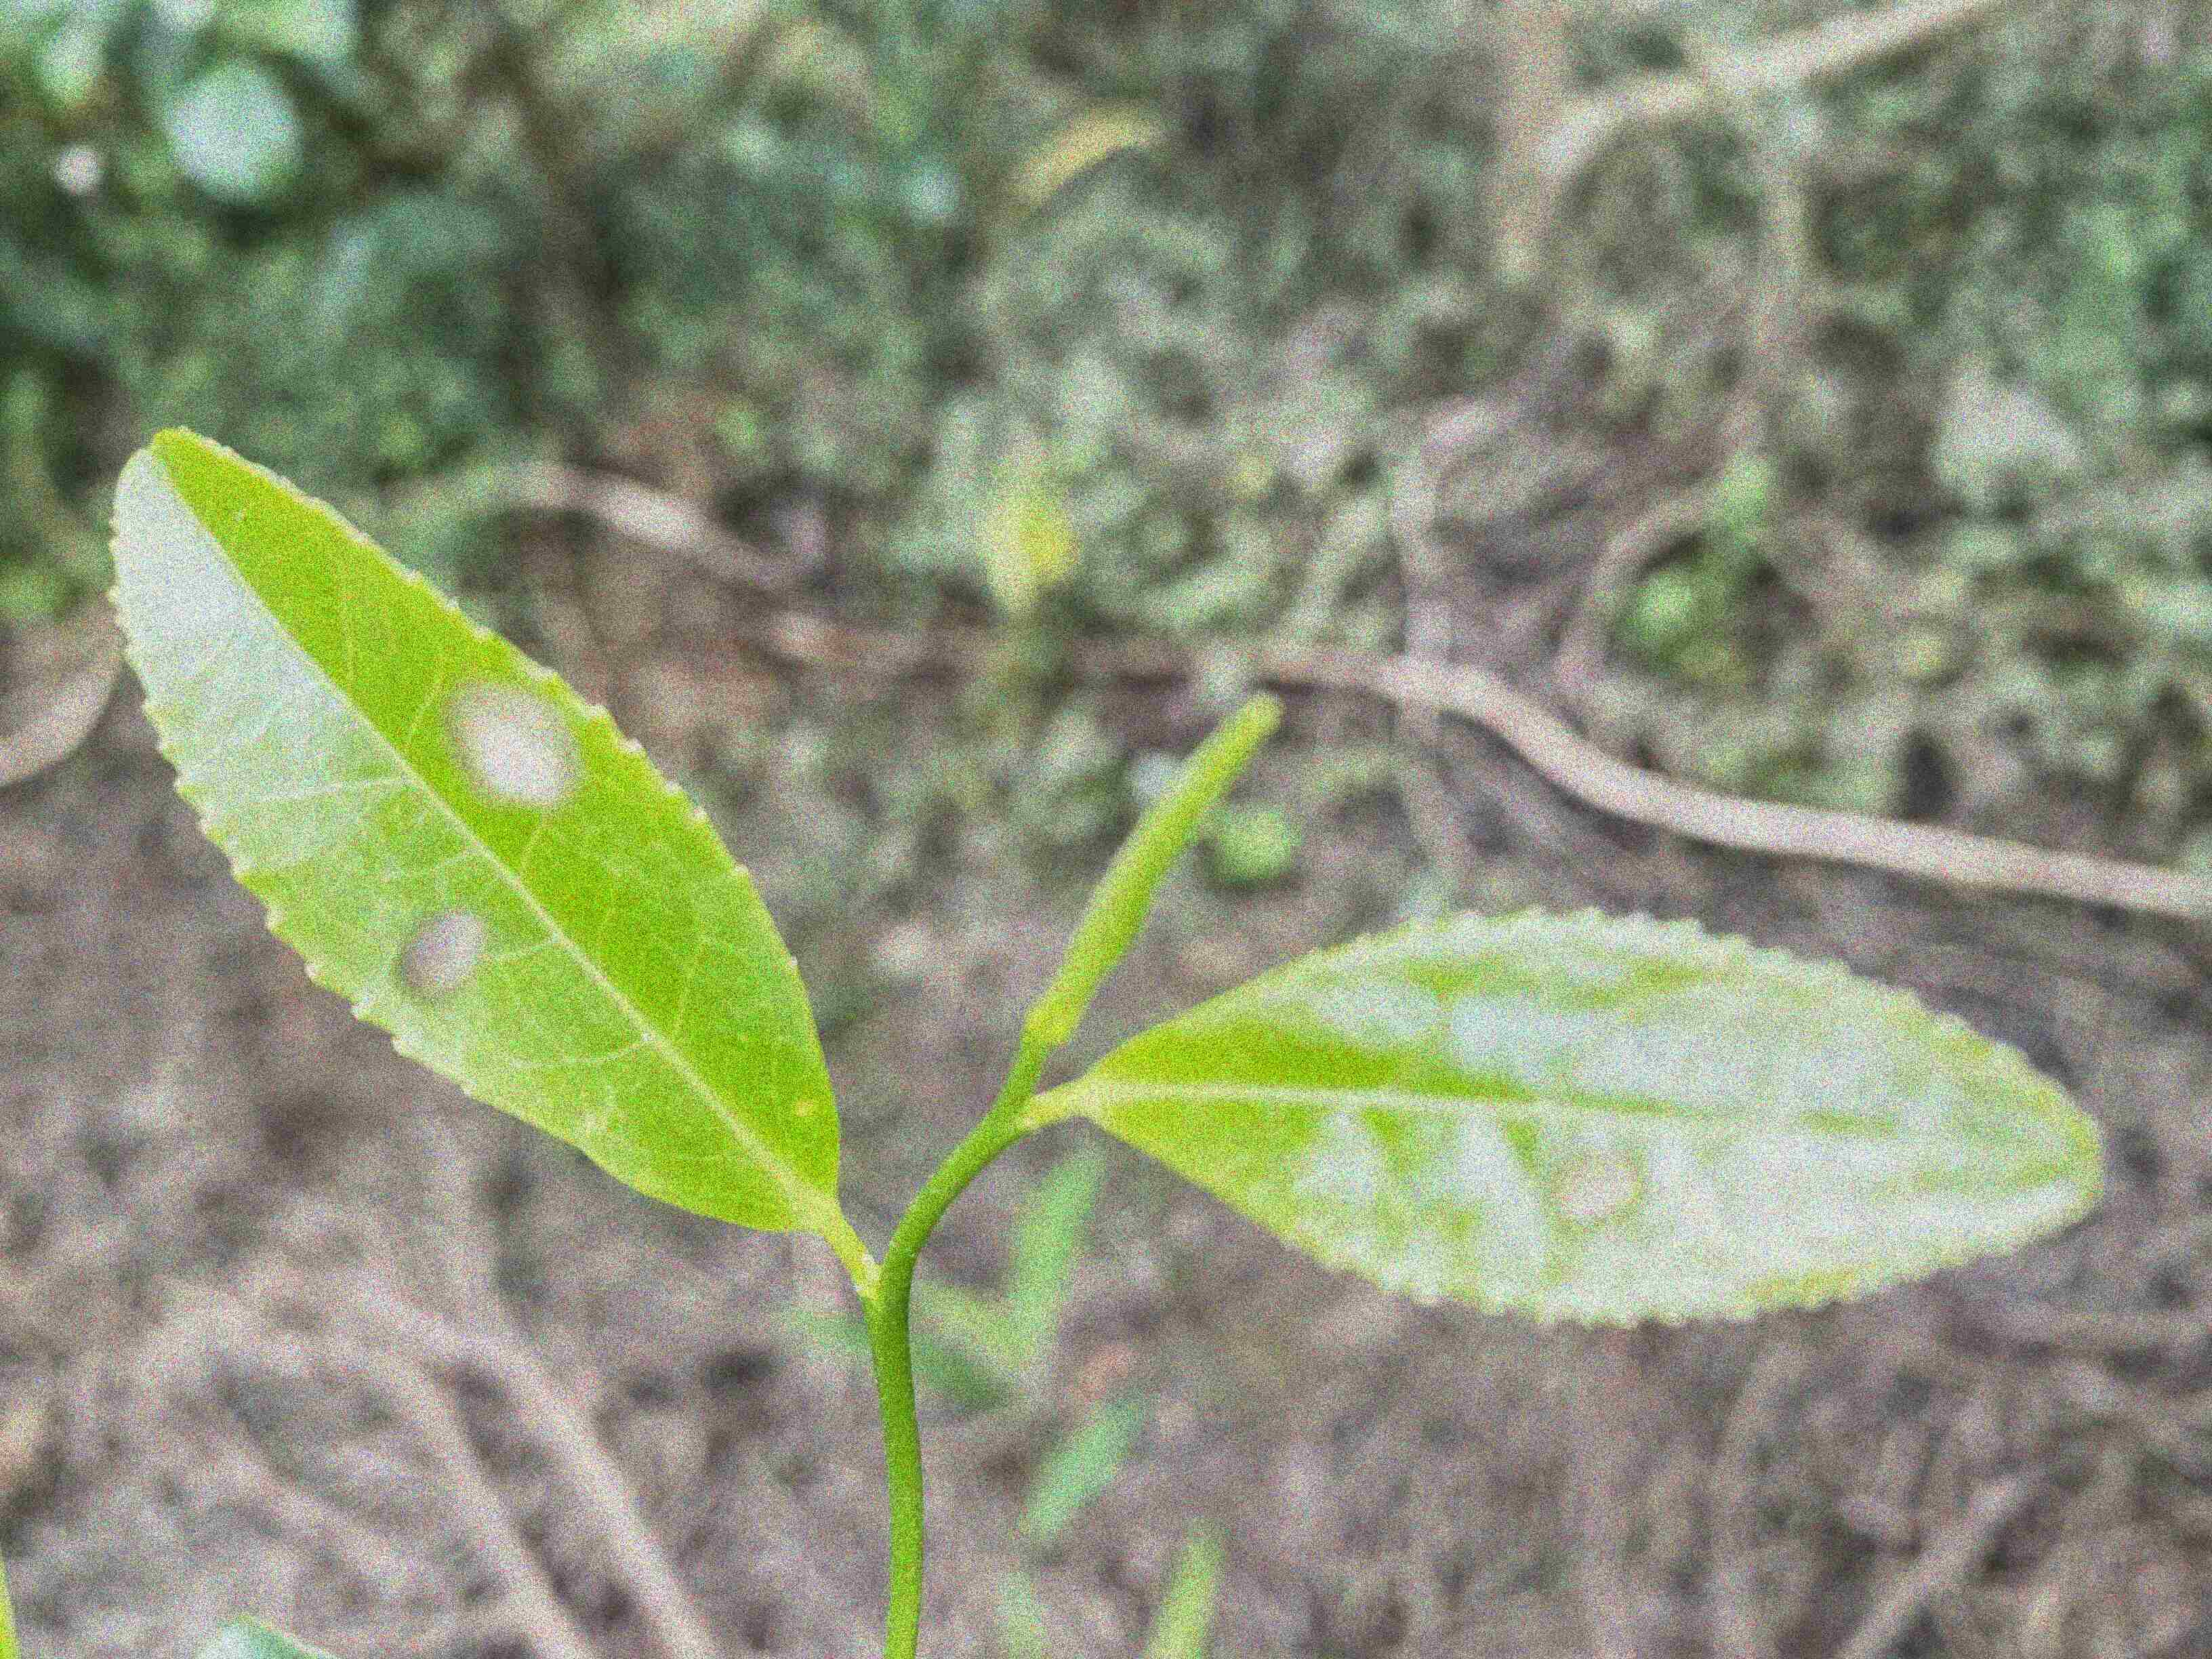chabing_high: (106, 423, 848, 1232)
chabing_low: (1083, 911, 2102, 1326)
